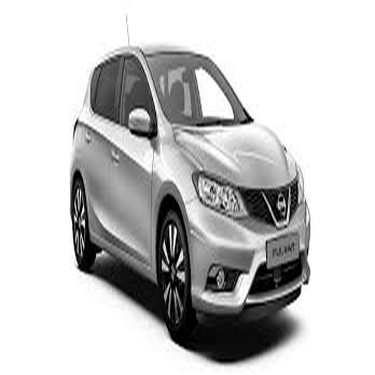car: (79, 28, 315, 340)
